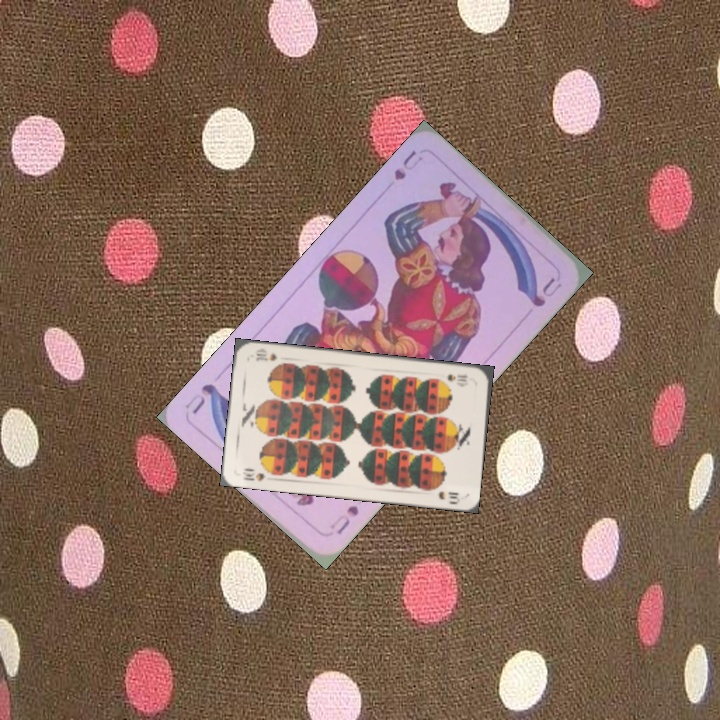S10: (239, 464, 267, 484), (443, 370, 470, 384)
SU: (390, 146, 426, 183), (326, 501, 362, 537)
